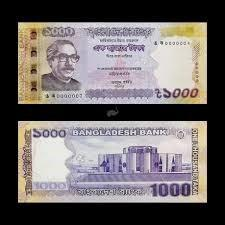1000 tk: (19, 21, 208, 104), (17, 122, 207, 203)
